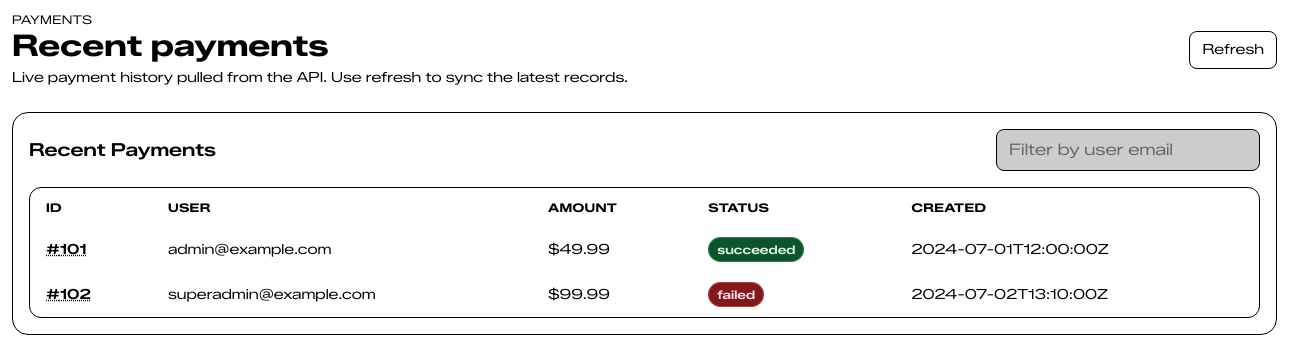
Scenario: AdminPaymentsPage › refreshes payments from the API
Expected: the text "admin@example.com" is shown, [152,228,532,272]
Click the button "Refresh".
click(1233, 50)  # box [1189,31,1277,69]
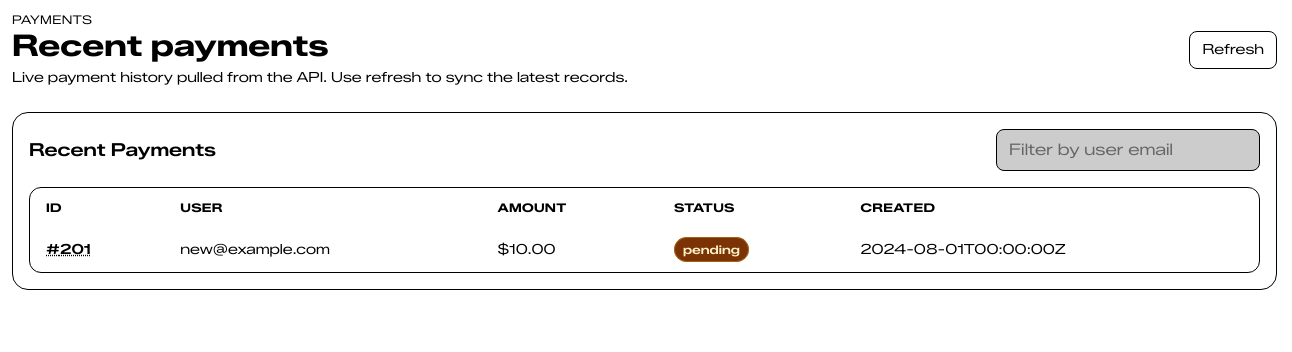
Expected: the text "new@example.com" is shown, [164,228,481,272]
